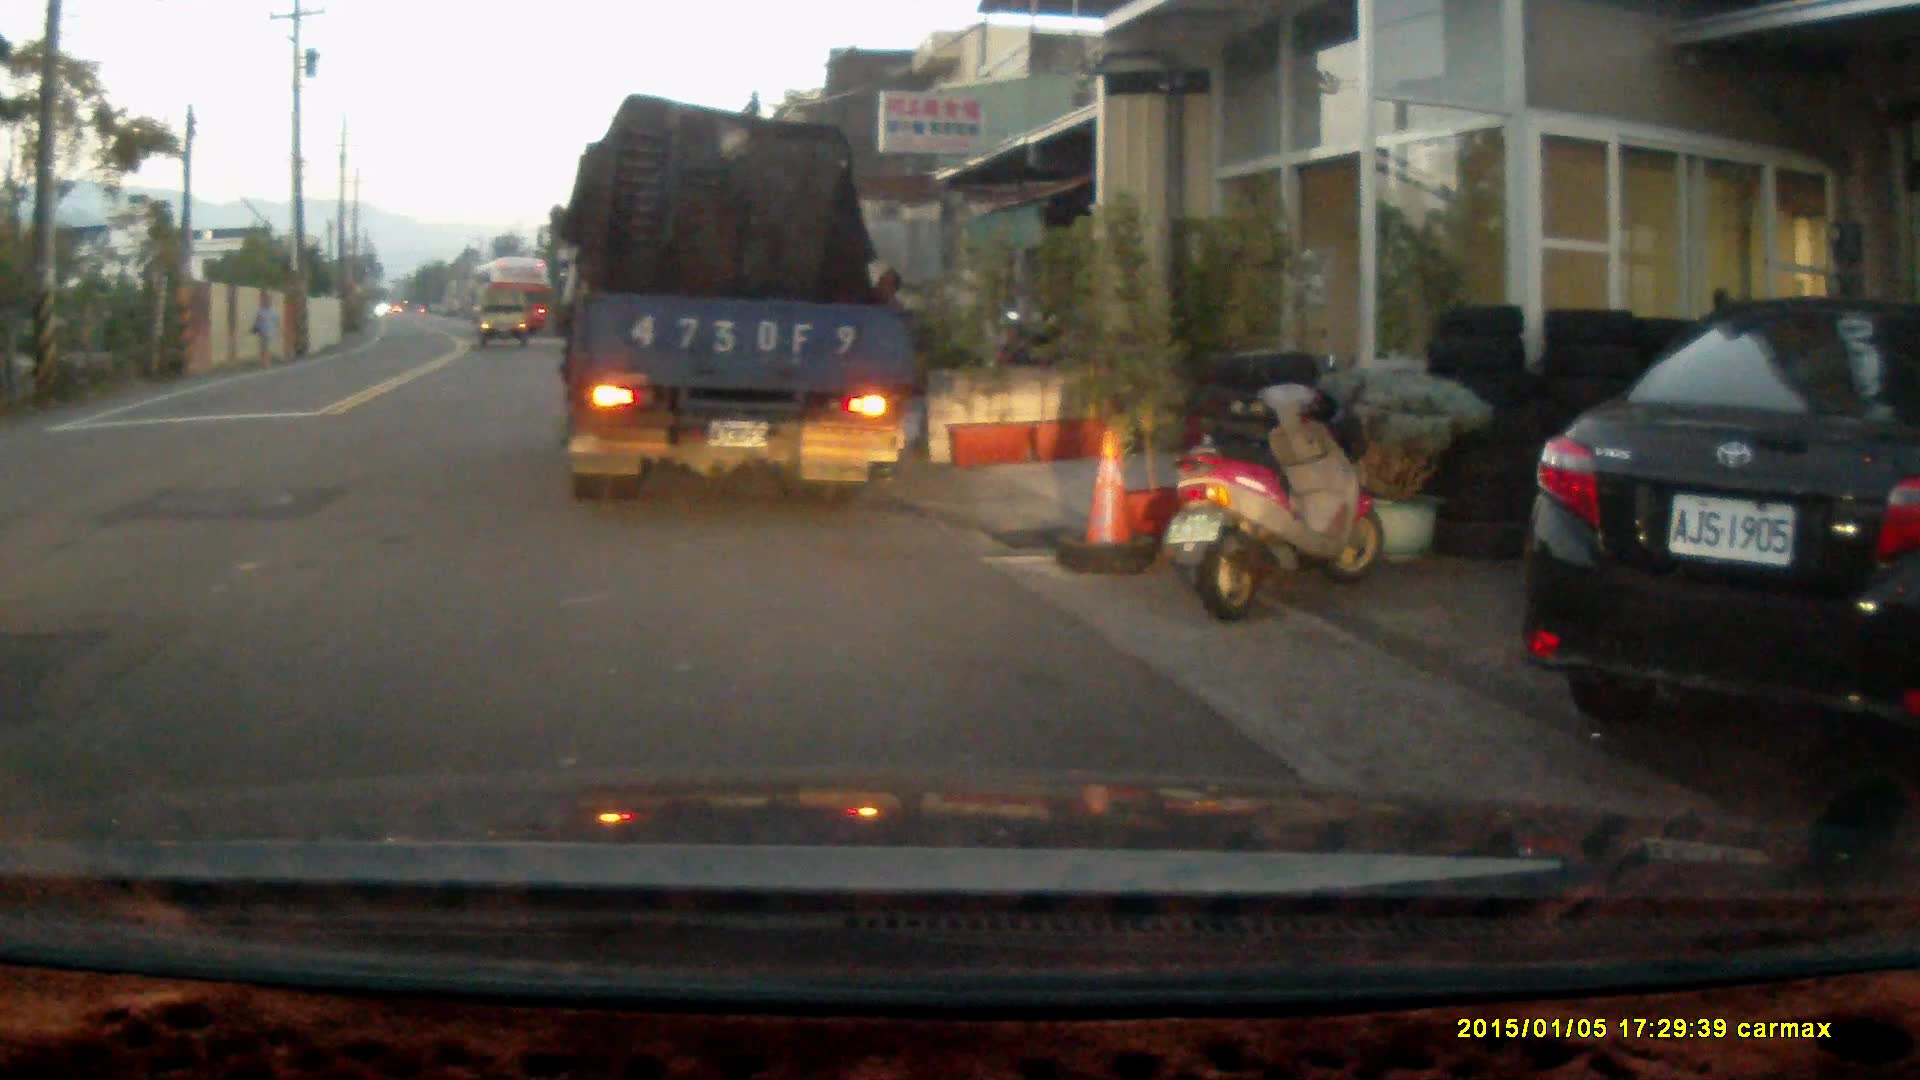pedestrian: (249, 289, 279, 362)
vehicle: (1539, 291, 1920, 766), (552, 106, 913, 504), (476, 254, 556, 338), (479, 293, 532, 353)
